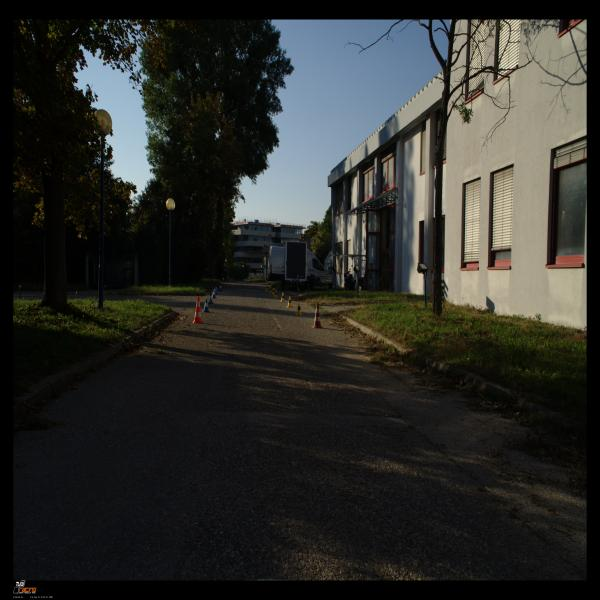blue_cone: (203, 299, 209, 312), (208, 293, 213, 304), (212, 289, 216, 298), (214, 287, 218, 295), (215, 285, 218, 293), (219, 284, 222, 291)
large_orange_cone: (311, 302, 324, 329), (192, 296, 203, 324)
yellow_cone: (286, 296, 293, 308), (296, 302, 302, 316), (280, 292, 286, 302), (274, 290, 278, 298), (265, 285, 269, 291), (269, 286, 272, 293), (272, 288, 275, 295)
